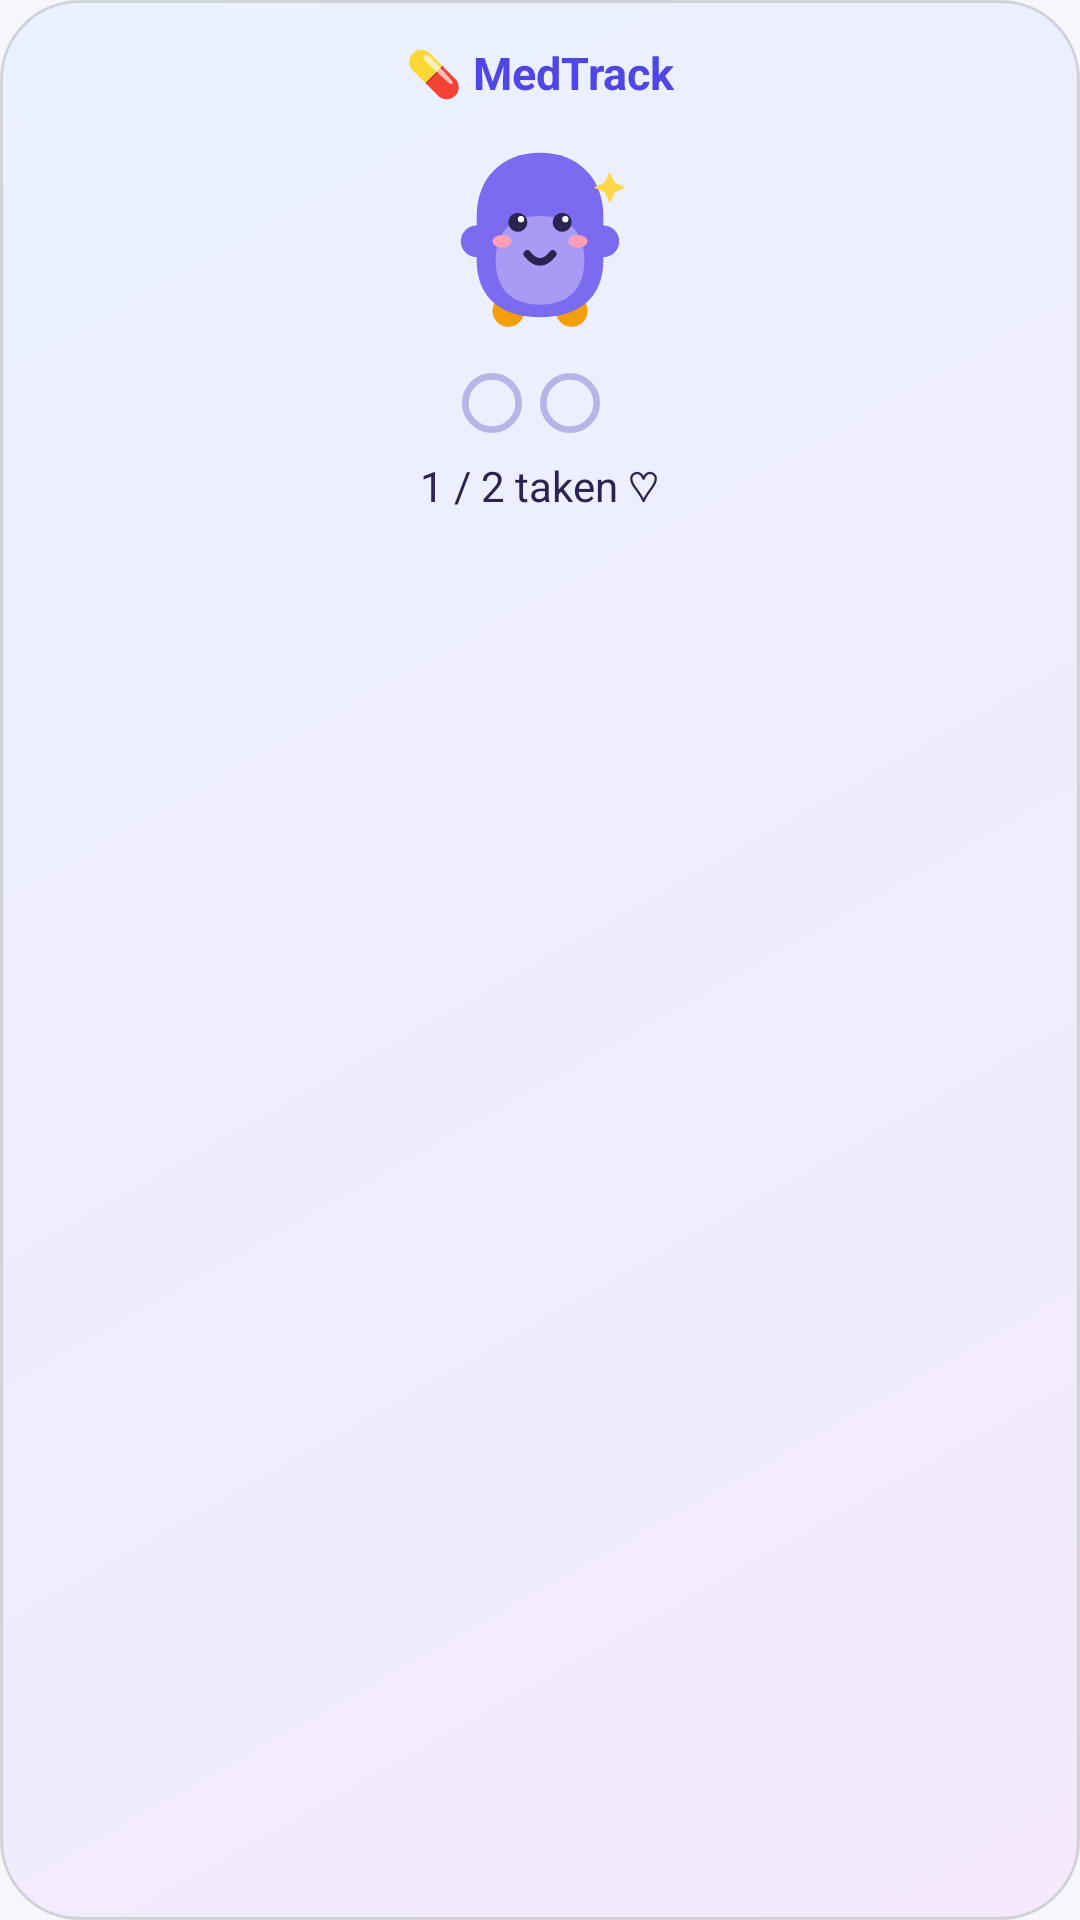

Where icons sit on this 1080x1920 app screen, as [x1=x1, y1=y1, x2=x2, y2=y2]:
mascot happy: [x1=460, y1=152, x2=625, y2=327]
